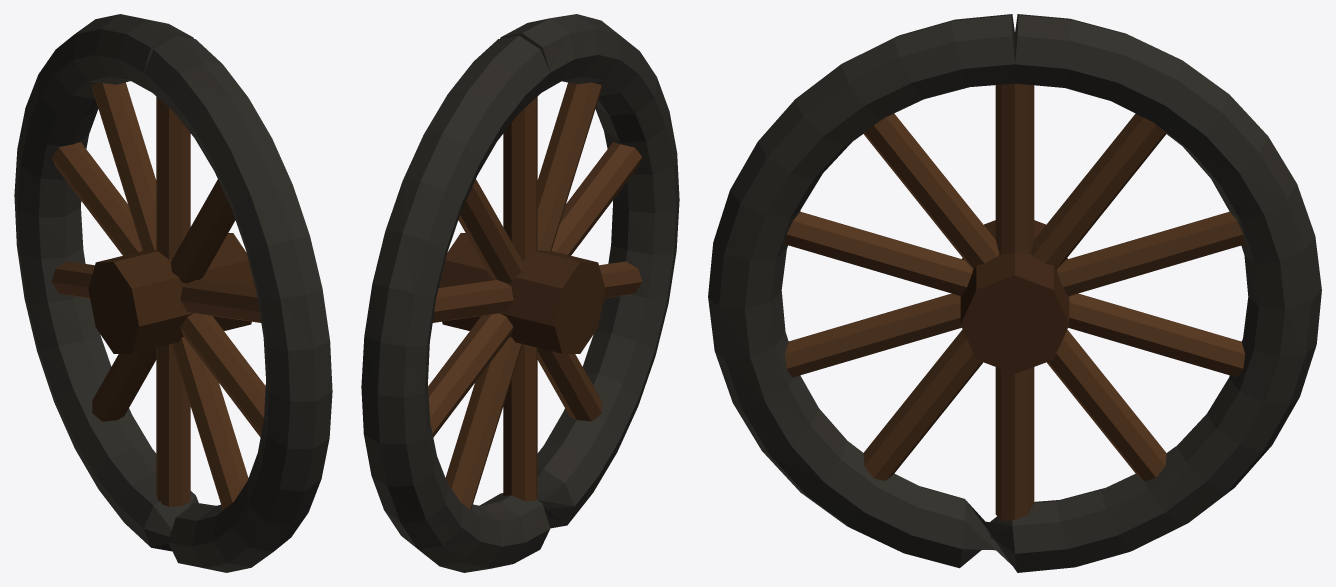
3 renders of one model, left to right at view 1: azimuth 30°, elevation 25°; view 2: azimuth 150°, elevation 25°; view 3: azimuth 270°, elevation 25°, orthographic. The views are drawn at different scales.
Size of the model in its own units: 0.34 by 1.41 by 1.41.
